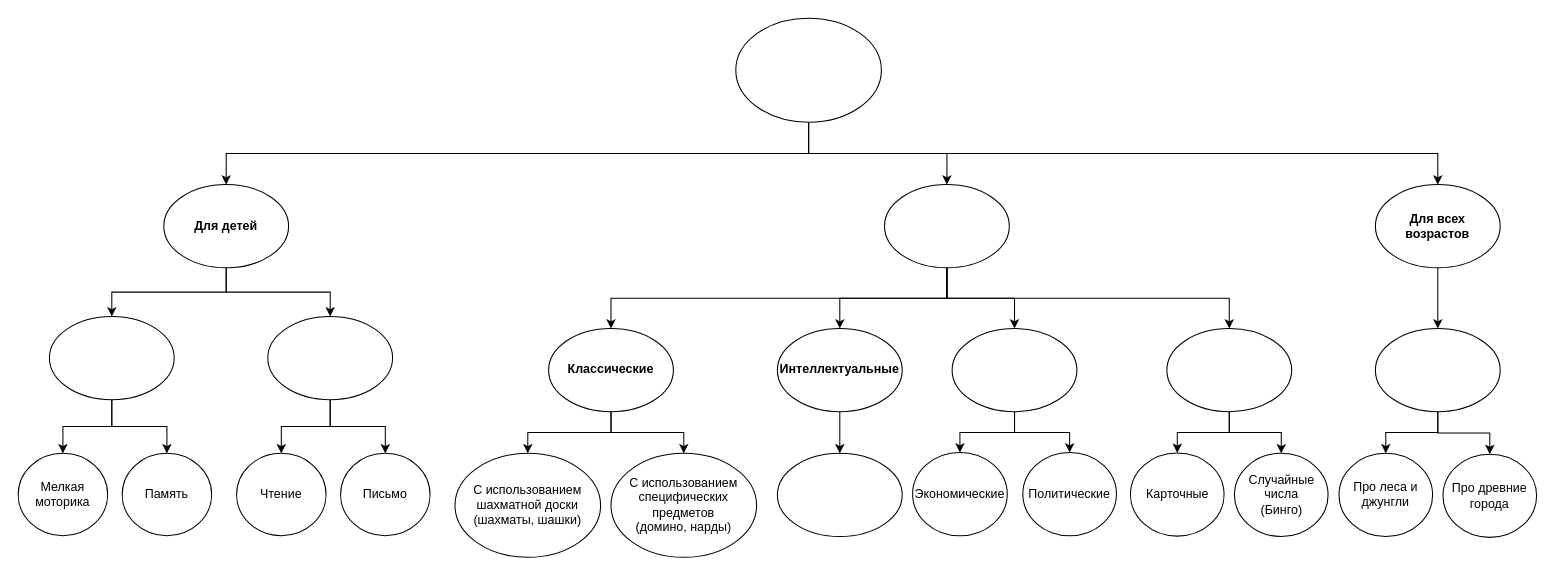
Some shapes in this 1555 by 576 pixel diagram are drawn without their labels. The box of each missing label's shape, as (x1, y1, x2, y2) in pixels:
Азартные: (1166, 327, 1292, 412)
Викторина: (776, 452, 902, 537)
Для взрослых: (883, 184, 1009, 268)
Настольные игры: (735, 17, 881, 122)
Обучающие: (267, 315, 393, 400)
Приключенческие: (1374, 327, 1500, 412)
Развивиающие: (48, 315, 174, 400)
Стратегические: (951, 327, 1077, 412)
